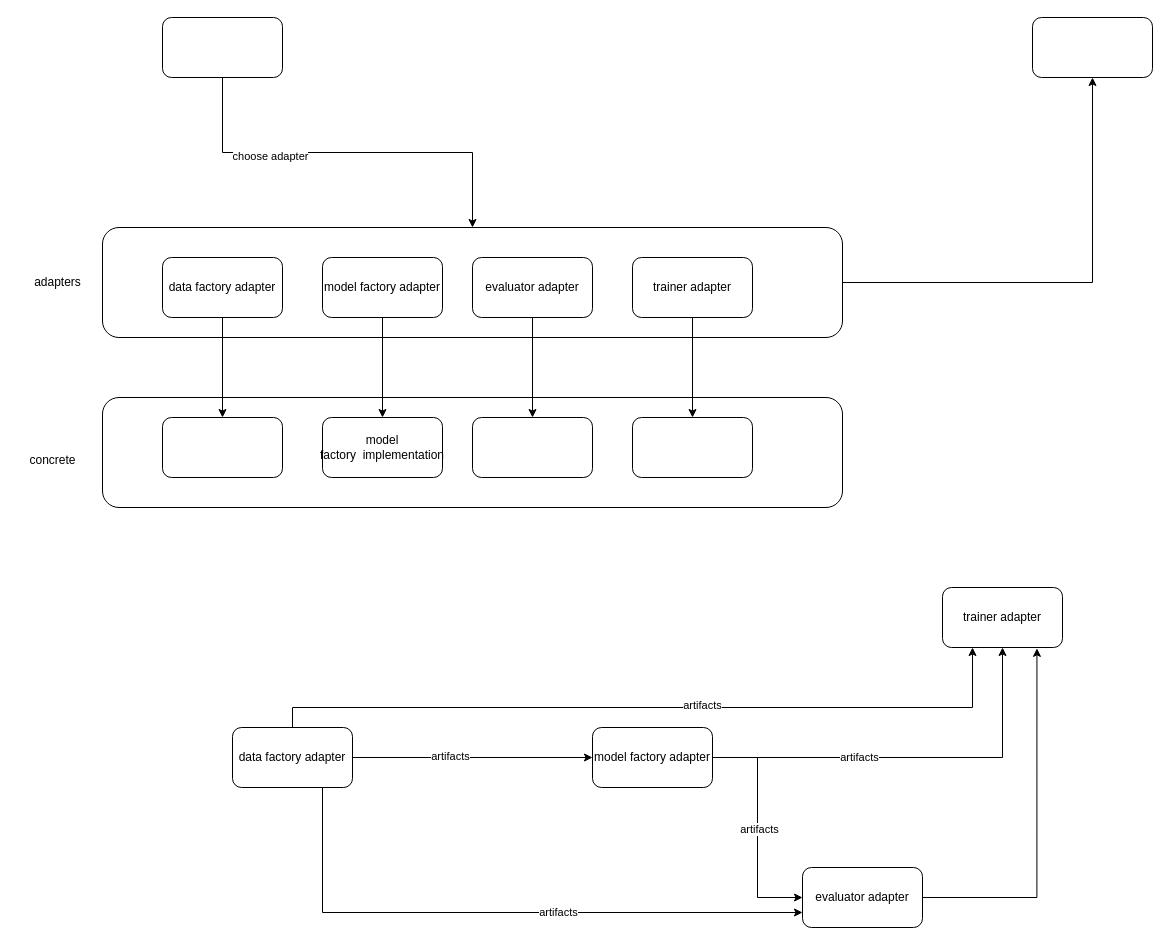
Some shapes in this 1170 by 945 pixel diagram are drawn without their labels. The centre of each missing label's shape, as x and y in pixels:
"data factory implementation" belongs at (x=222, y=447).
"evaluator implementation" belongs at (x=532, y=447).
"pipeline factory" belongs at (x=222, y=47).
"trainer implementation" belongs at (x=692, y=447).
"training pipeline" belongs at (x=1092, y=47).
